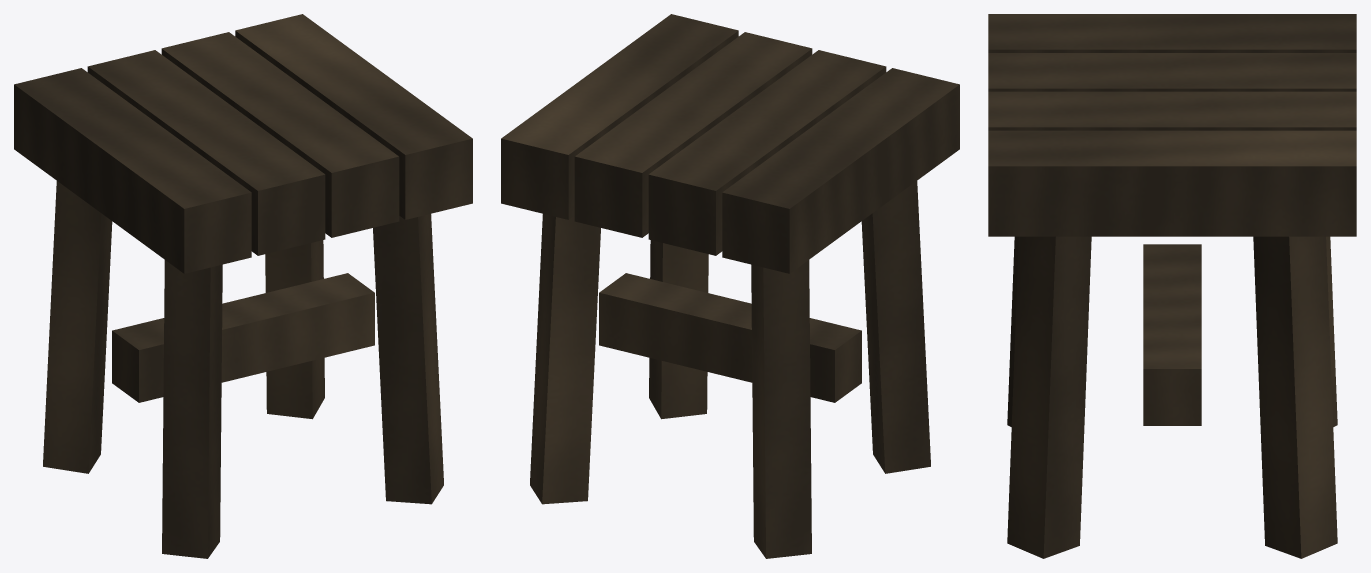
File: Stool.glb
3 renders of one model, left to right at view 1: azimuth 30°, elevation 25°; view 2: azimuth 150°, elevation 25°; view 3: azimuth 270°, elevation 25°, orthographic. The views are drawn at different scales.
Visible parts, largest first — view 1: Stool; view 2: Stool; view 3: Stool.
Part boxes in pixels (left/top/right/bottom): Stool: left=14, top=14, right=472, bottom=558; Stool: left=501, top=14, right=959, bottom=558; Stool: left=988, top=14, right=1356, bottom=558.
Size of the model in its own units: 0.372 by 0.4513 by 0.38.
1 material, 1 textured.
